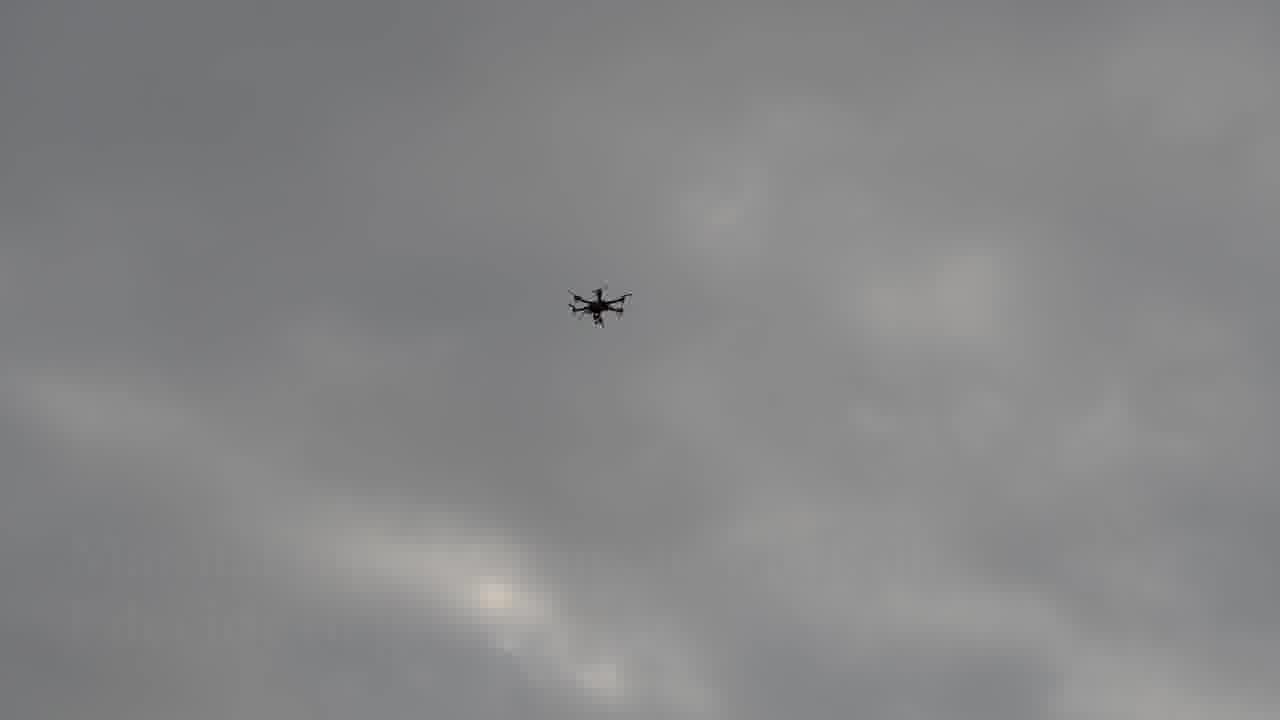drone: (568, 282, 640, 329)
